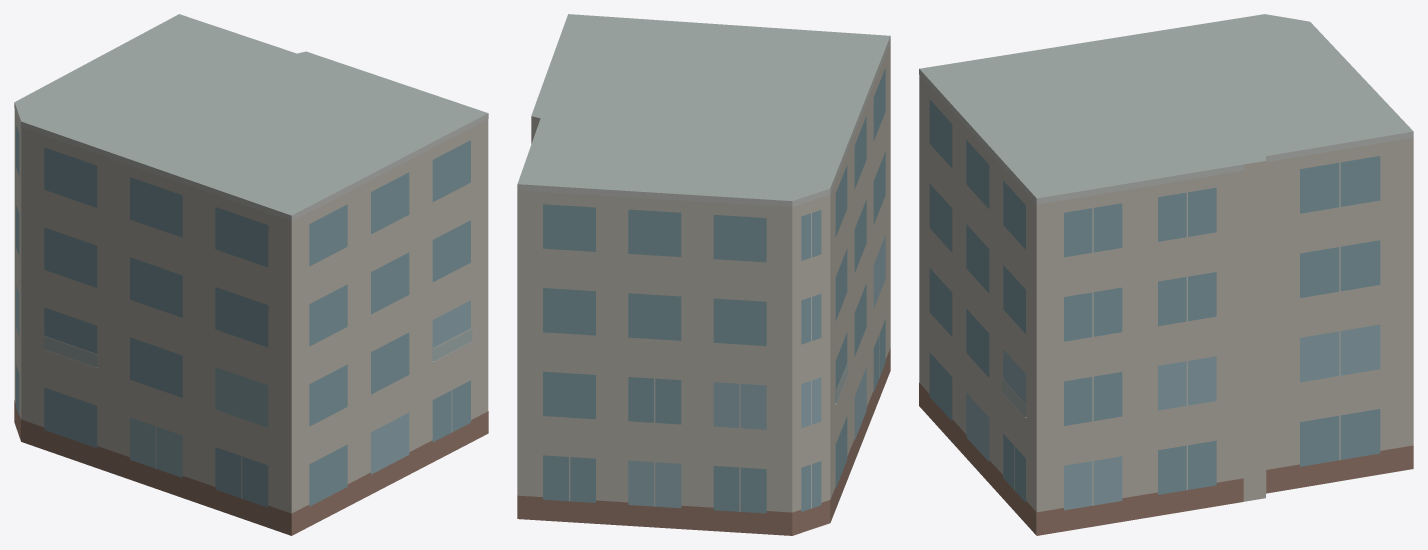
File: survey-upis-32488200.glb
3 views of the same model, side by side, from view 1: azimuth 30°, elevation 25°; view 2: azimuth 150°, elevation 25°; view 3: azimuth 270°, elevation 25° (orthographic). The views are drawn at different scales.
Parts seen in each view (by area): view 1: survey-upis-32488200.tmp; view 2: survey-upis-32488200.tmp; view 3: survey-upis-32488200.tmp.
Boxes of the visible parts, x1,y1,x2,y2 form: survey-upis-32488200.tmp: (14,14,488,535); survey-upis-32488200.tmp: (517,14,890,535); survey-upis-32488200.tmp: (919,14,1413,535).
Bounding box in the file's own units: 15.79 × 13.45 × 17.88.
